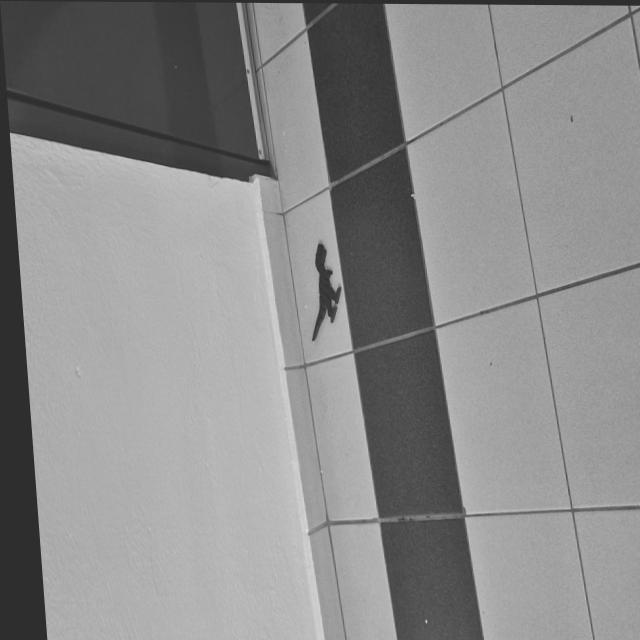dino: (304, 242, 346, 341)
